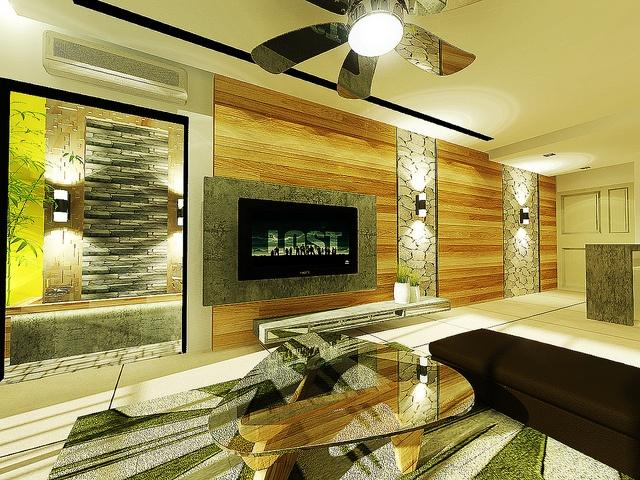AC: (41, 29, 187, 105)
AIO PC-Monitor-TV: (236, 196, 358, 281)
